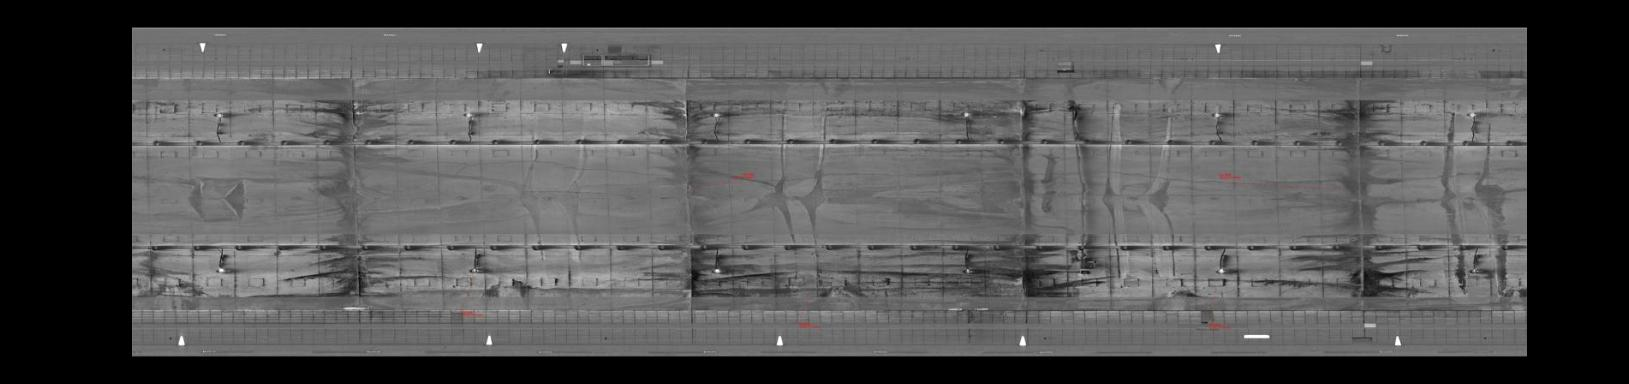light: (1205, 109, 1228, 121), (211, 264, 229, 278), (465, 264, 484, 276), (705, 109, 727, 119), (1463, 108, 1480, 120), (209, 108, 228, 119), (461, 109, 480, 119), (707, 265, 724, 276), (1213, 264, 1230, 275), (957, 110, 974, 120), (1467, 264, 1483, 275), (957, 267, 976, 275)
